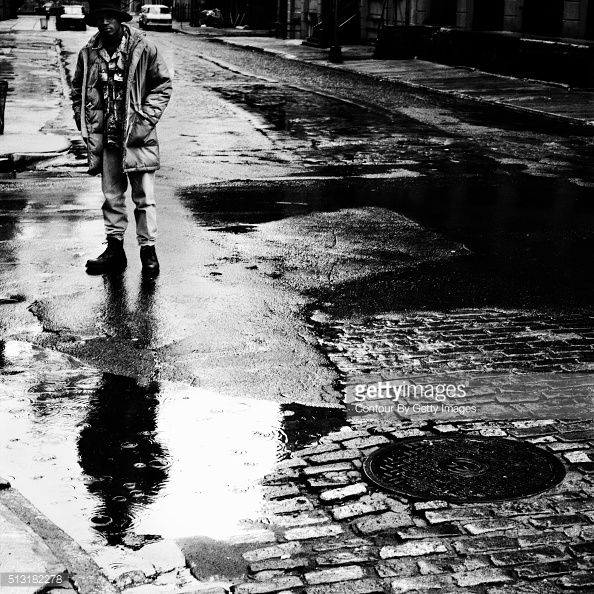em pe: (77, 3, 165, 301)
